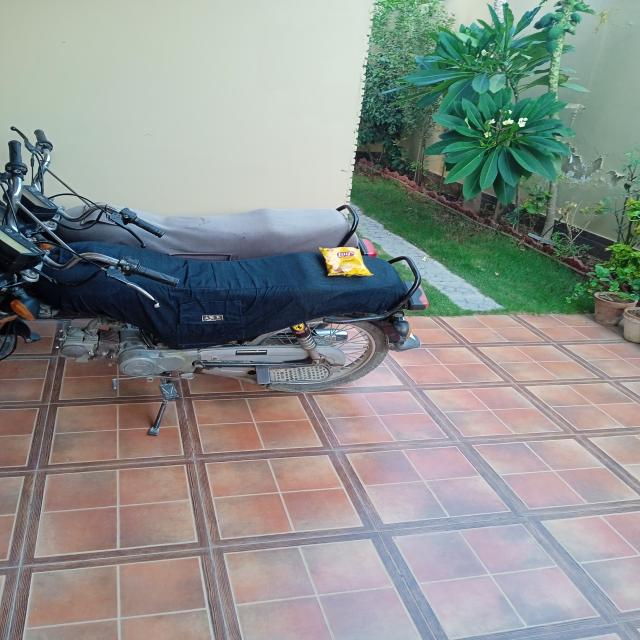Plastic: (318, 236, 373, 282)
